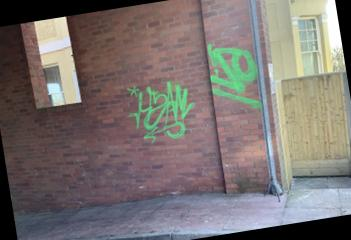graffiti: (127, 81, 194, 138), (208, 44, 261, 107)
